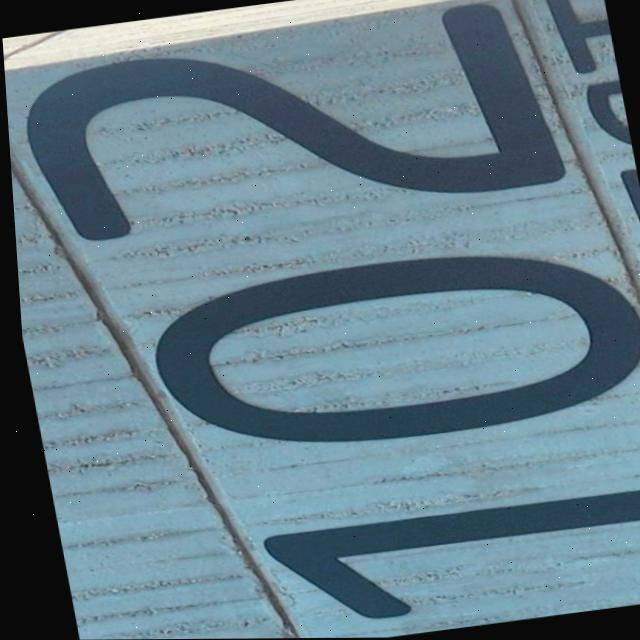character: (1, 0, 576, 254), (130, 224, 640, 472), (253, 475, 640, 634)
